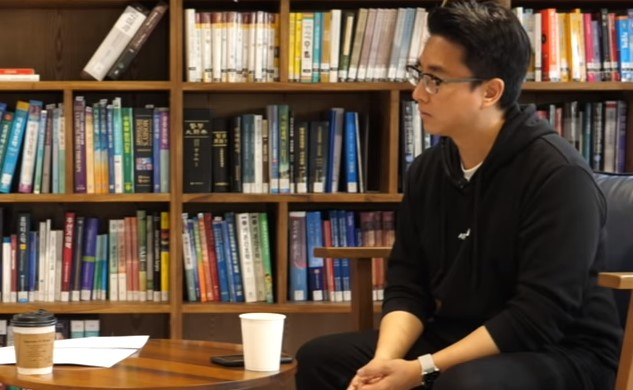face_no_mask: (406, 10, 525, 143)
